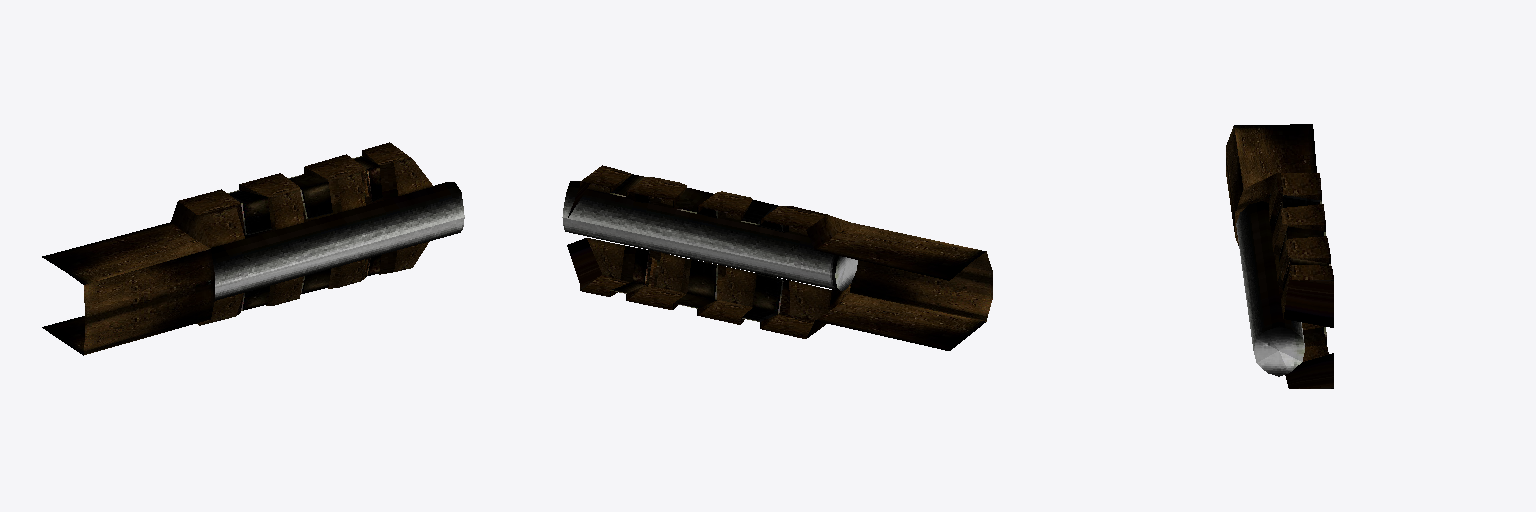
3 views of the same model, side by side, from view 1: azimuth 30°, elevation 25°; view 2: azimuth 150°, elevation 25°; view 3: azimuth 270°, elevation 25° (orthographic).
Size of the model in its own units: 14.85 by 3.91 by 3.52.
Materials: 1 (1 with a texture image).